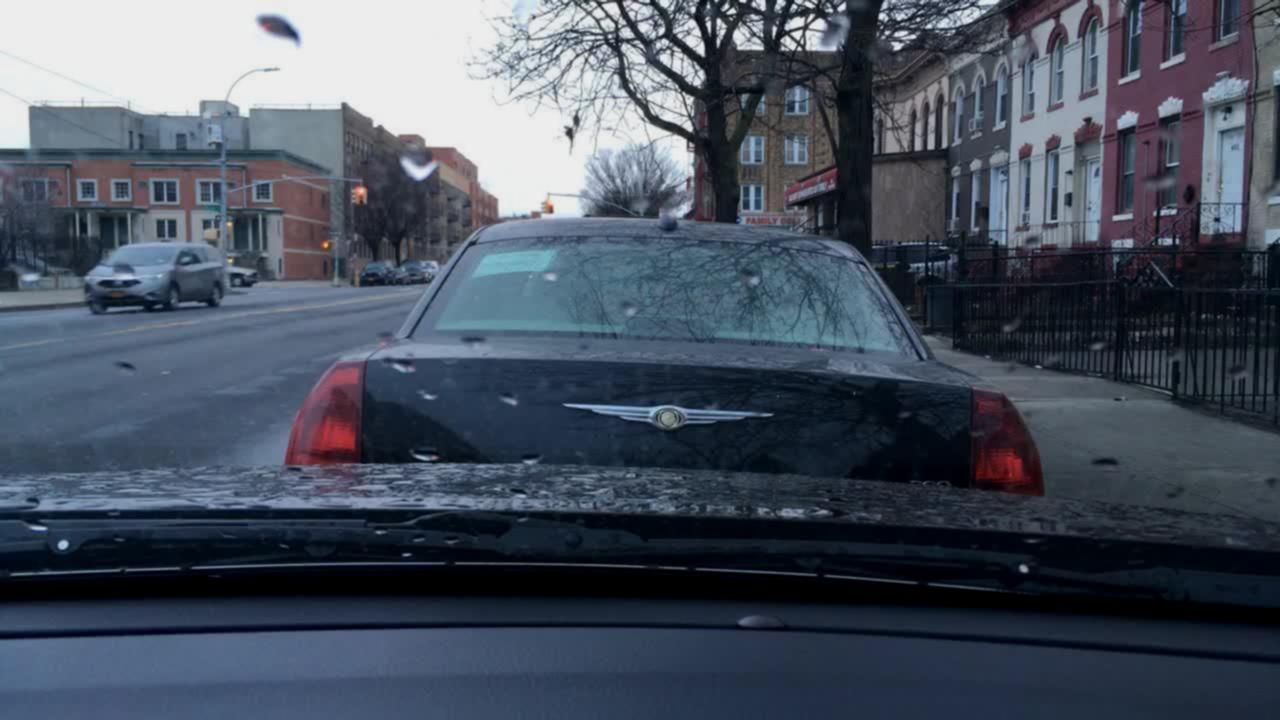Chrysler: (559, 398, 786, 435)
